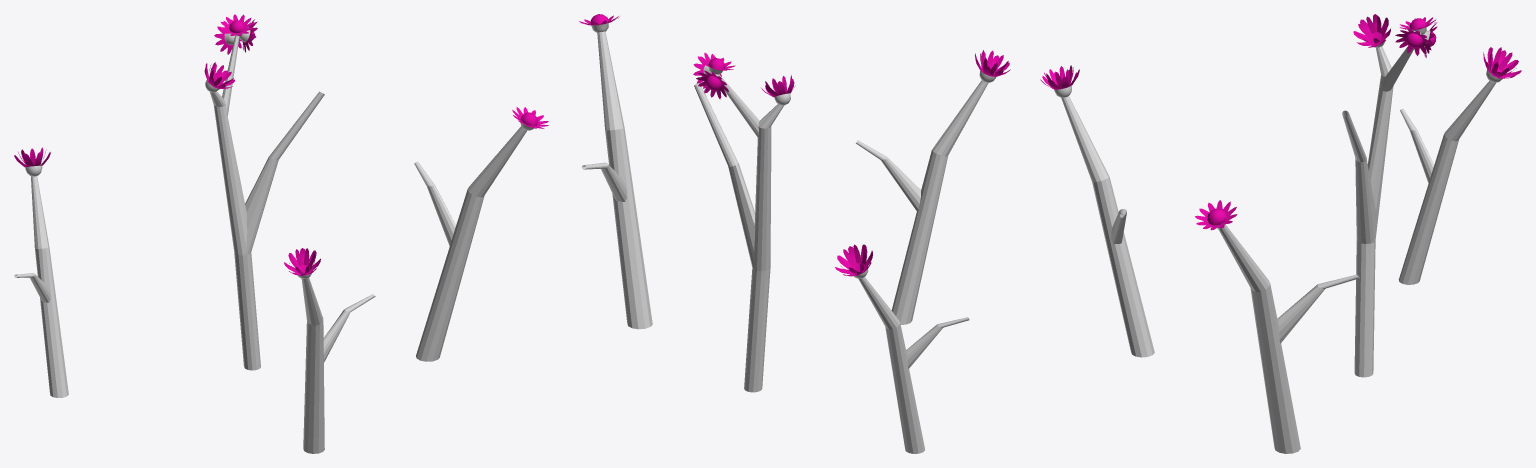
The model's file is suo-ohdake_keskikokoinen.fbx.
3 views of the same model, side by side, from view 1: azimuth 30°, elevation 25°; view 2: azimuth 150°, elevation 25°; view 3: azimuth 270°, elevation 25° (orthographic). The views are drawn at different scales.
Visible parts, largest first — view 1: Suo-ohdake_keskikokoinen; view 2: Suo-ohdake_keskikokoinen; view 3: Suo-ohdake_keskikokoinen.
Boxes of the visible parts, x1=… form: Suo-ohdake_keskikokoinen: x1=14, y1=14, x2=548, y2=453; Suo-ohdake_keskikokoinen: x1=579, y1=14, x2=1010, y2=453; Suo-ohdake_keskikokoinen: x1=1040, y1=14, x2=1521, y2=453.
Bounding box in the file's own units: 98.83 × 68.68 × 83.26.
